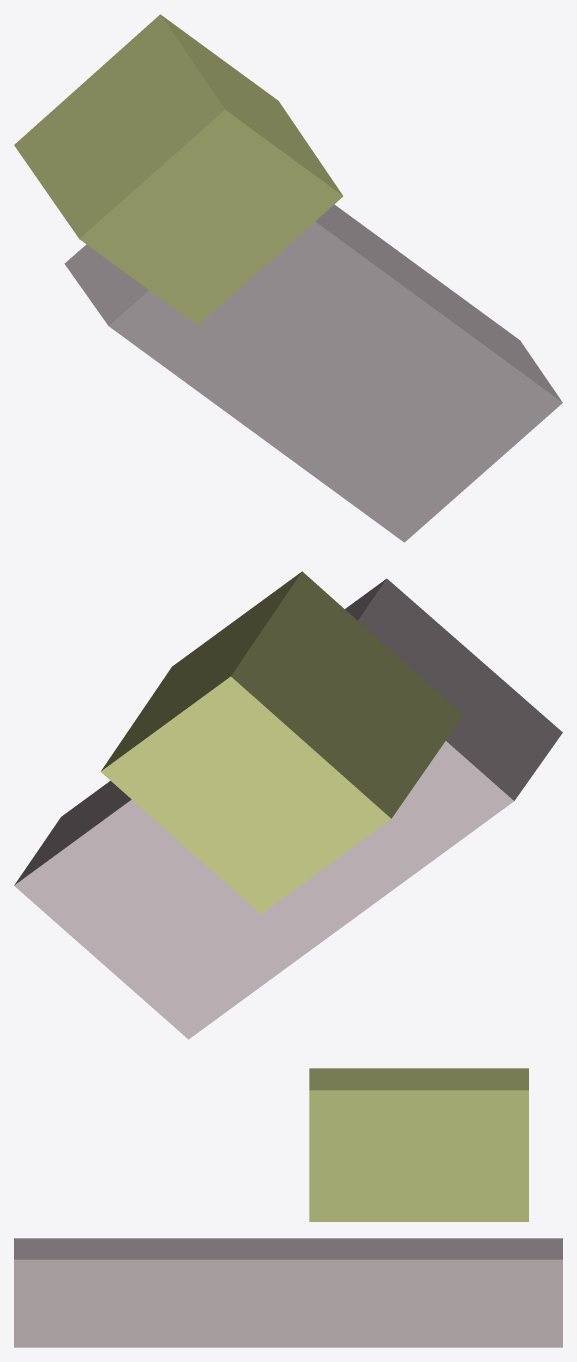
The picture shows the model from 3 angles, top to bottom: view 1: azimuth 30°, elevation 25°; view 2: azimuth 150°, elevation 25°; view 3: azimuth 270°, elevation 25°; orthographic projection. The views are drawn at different scales.
Parts seen in each view (by area): view 1: 0_1_1_3_2_2_3_0_2_0_0; view 2: 0_1_1_3_2_2_3_0_2_0_0; view 3: 0_1_1_3_2_2_3_0_2_0_0.
Boxes of the visible parts, x1=… form: 0_1_1_3_2_2_3_0_2_0_0: x1=14, y1=14, x2=562, y2=542; 0_1_1_3_2_2_3_0_2_0_0: x1=14, y1=571, x2=562, y2=1039; 0_1_1_3_2_2_3_0_2_0_0: x1=14, y1=1068, x2=562, y2=1347.
Bounding box in the file's own units: 7.95 × 8.87 × 15.
